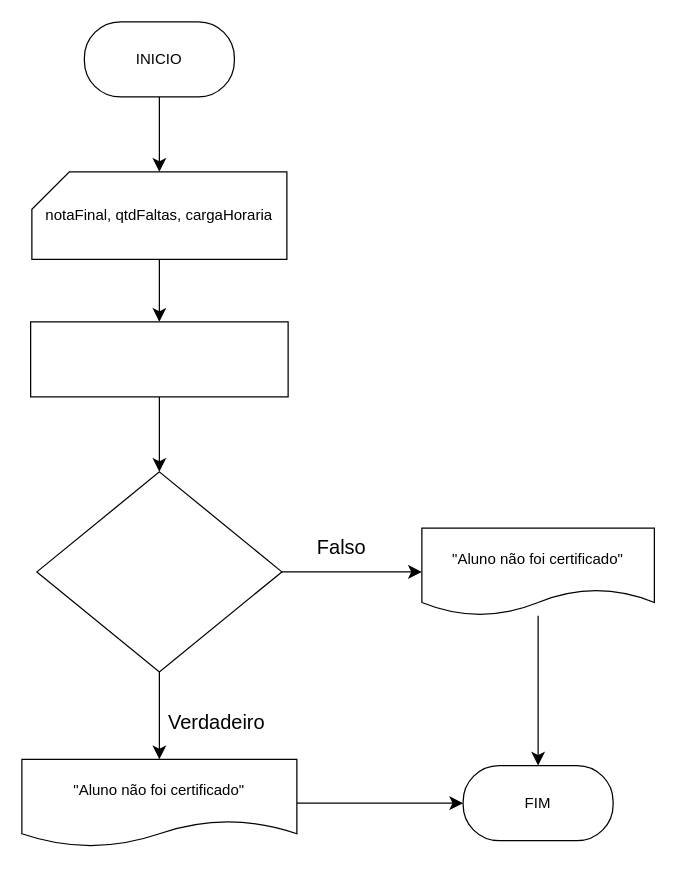
The diagram is 676 pixels wide and 869 high, and some of its shapes have lost their labels. The shapes that lost their labels are listed below. From the top down, each one's centre as x and y in pixels, then its label:
(x=158, y=359): limiteFaltas = cargaHoraria * 0,25
(x=159, y=571): notaFinal >= 50 e qtdFaltas <= limiteFaltas
